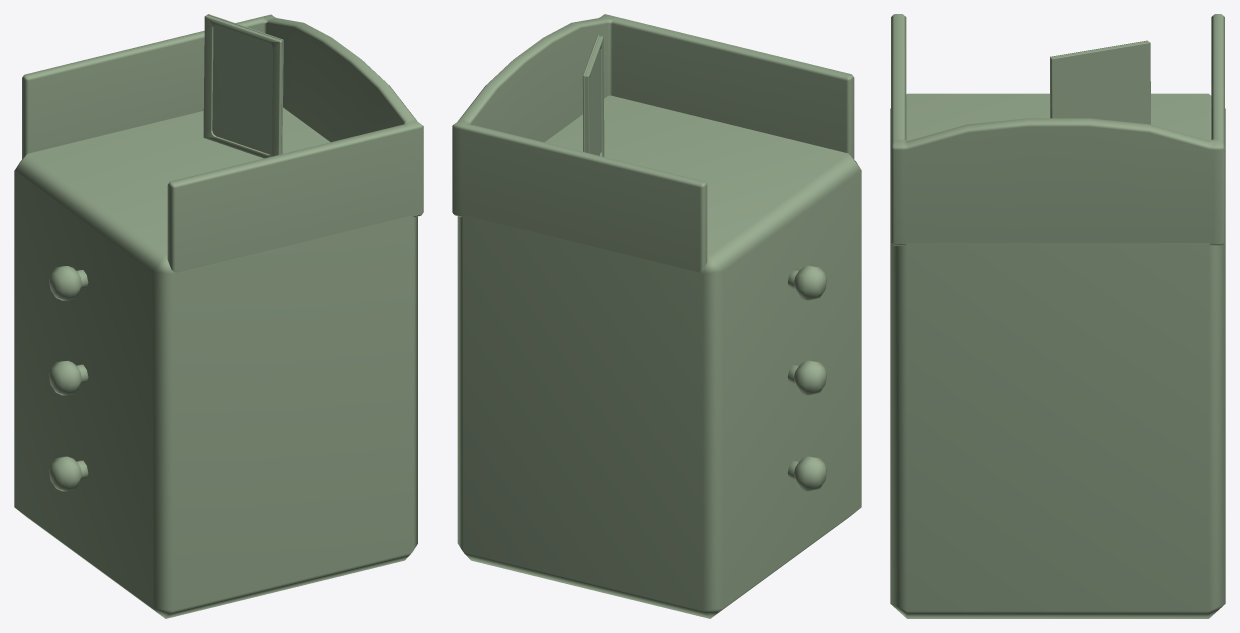
The model's file is Dressing Table.fbx.
3 views of the same model, side by side, from view 1: azimuth 30°, elevation 25°; view 2: azimuth 150°, elevation 25°; view 3: azimuth 270°, elevation 25° (orthographic). The views are drawn at different scales.
Visible parts, largest first — view 1: pCube50, pCube51, mirror, Frame2, Knob_3, Knob_2, Knob; view 2: pCube50, pCube51, Frame2, Knob_2, Knob_3, Knob, mirror; view 3: pCube50, pCube51, Back.
Part boxes in pixels (x1=…): pCube50: x1=14, y1=107, x2=417, y2=618; pCube51: x1=22, y1=14, x2=423, y2=272; mirror: x1=212, y1=24, x2=272, y2=154; Frame2: x1=203, y1=15, x2=282, y2=158; Knob_3: x1=49, y1=456, x2=88, y2=491; Knob_2: x1=49, y1=361, x2=88, y2=395; Knob: x1=49, y1=266, x2=88, y2=300; pCube50: x1=457, y1=95, x2=861, y2=618; pCube51: x1=452, y1=14, x2=854, y2=272; Frame2: x1=584, y1=36, x2=604, y2=156; Knob_2: x1=787, y1=360, x2=826, y2=395; Knob_3: x1=787, y1=456, x2=826, y2=491; Knob: x1=787, y1=265, x2=826, y2=300; mirror: x1=590, y1=51, x2=600, y2=155; pCube50: x1=890, y1=93, x2=1225, y2=618; pCube51: x1=891, y1=14, x2=1224, y2=245; Back: x1=1051, y1=42, x2=1150, y2=124.
Bounding box in the file's own units: 64.79 × 102 × 58.19.
